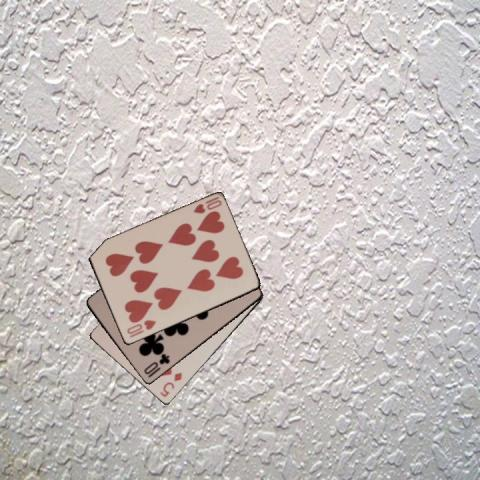10c: (141, 351, 171, 379)
10h: (124, 317, 157, 339), (190, 194, 223, 215)
5d: (157, 369, 183, 399)
